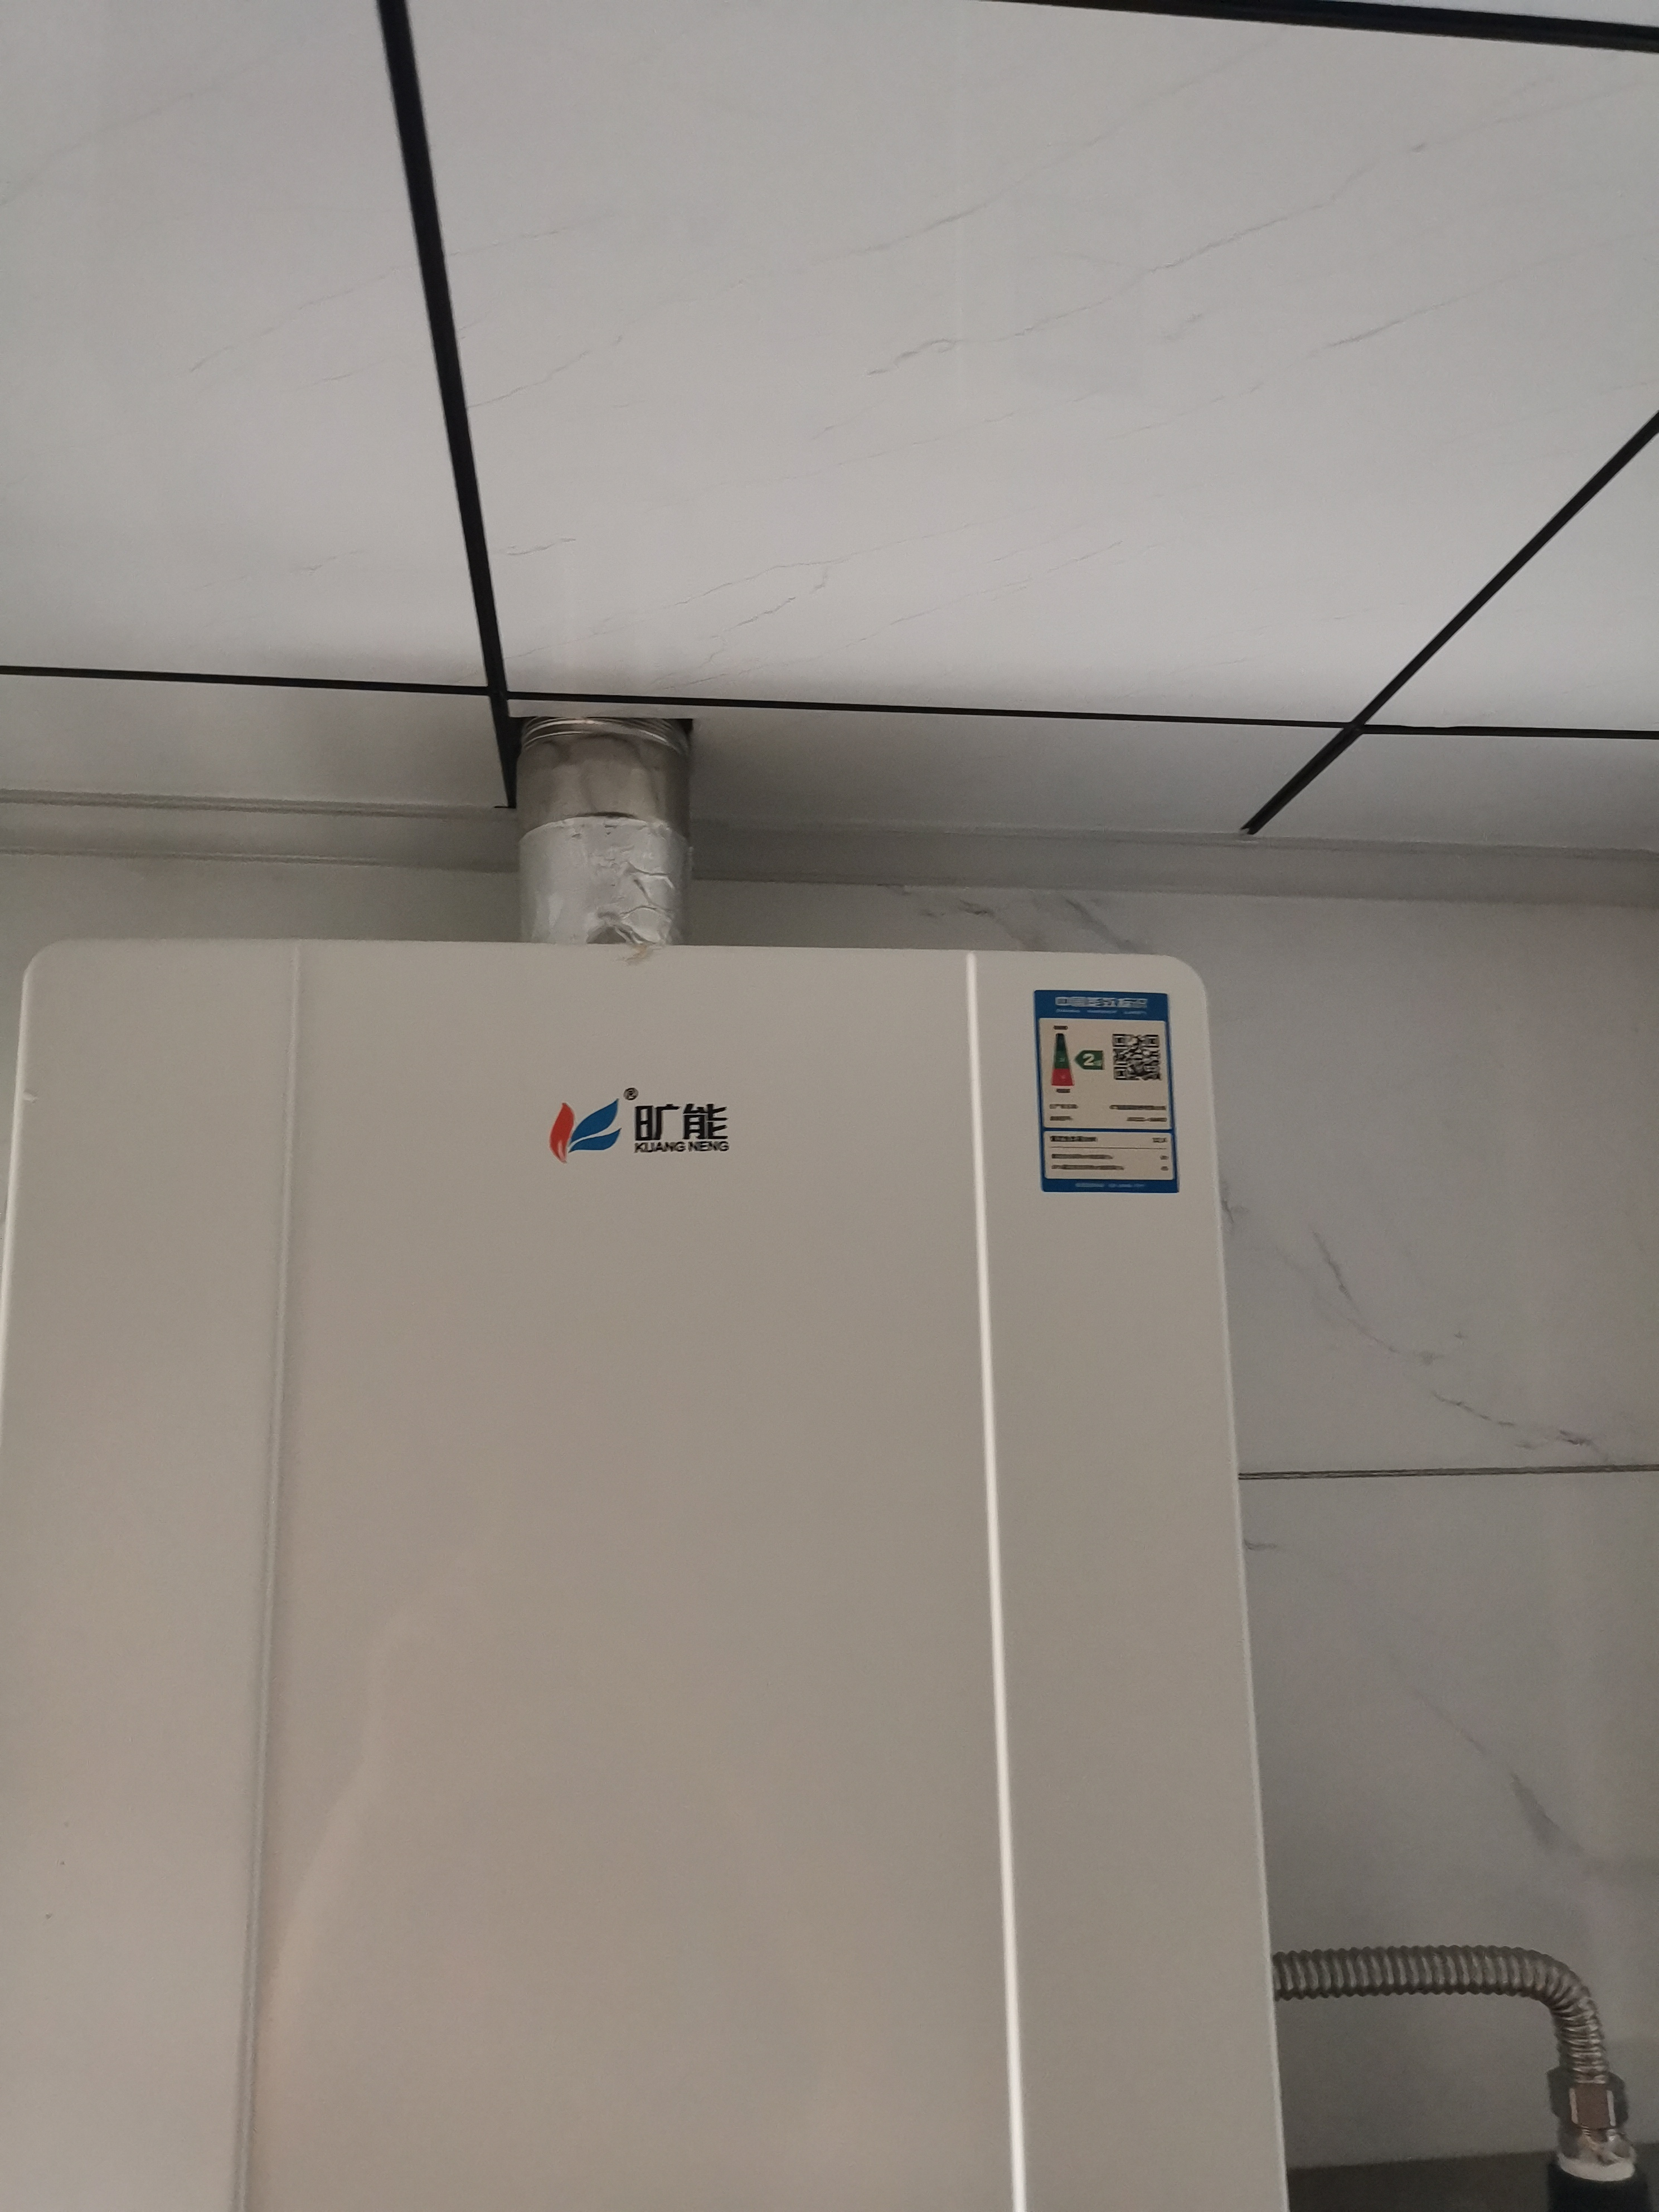loudou: (537, 1076, 744, 1170)
